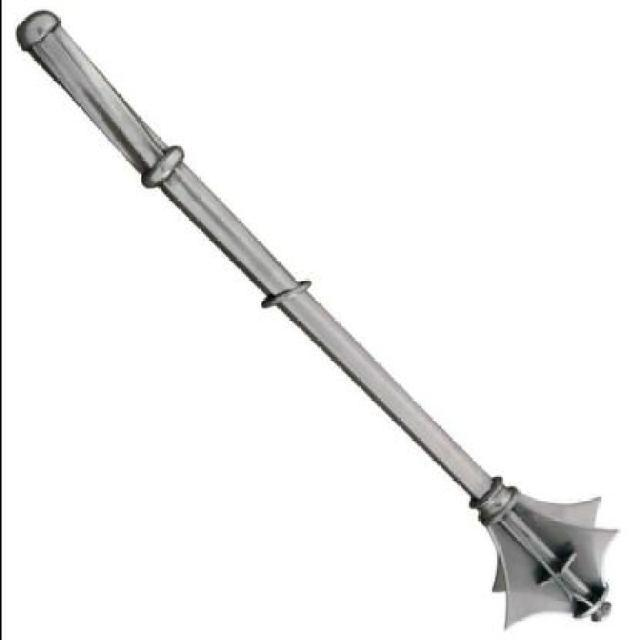weapon: (13, 7, 620, 628)
